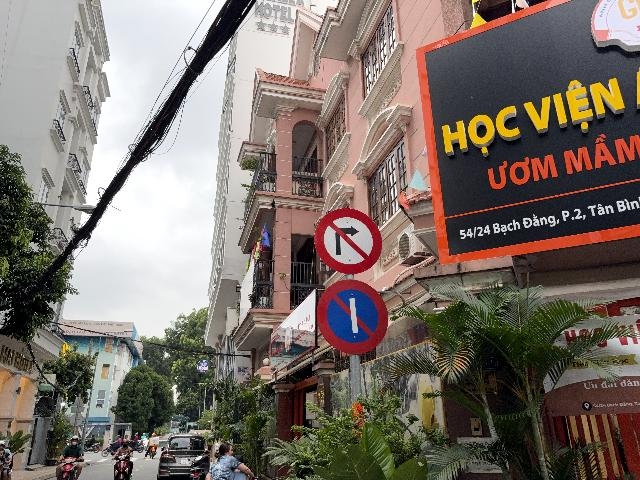cam-do-xe-ngay-le: (316, 278, 389, 355)
cam-re-phai: (314, 208, 382, 274)
